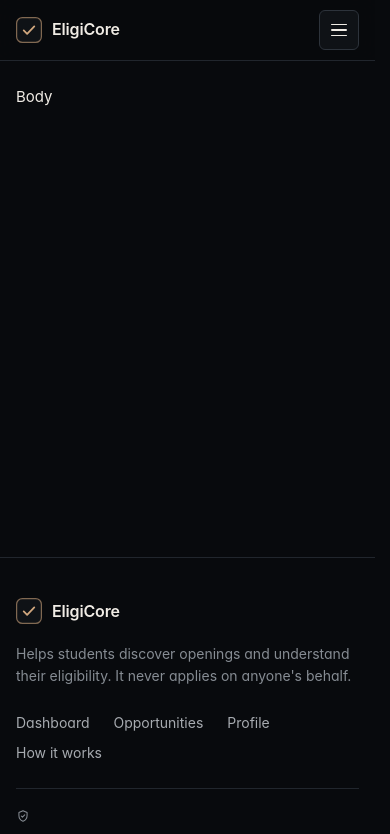
Test: mobile navigation › opens and closes the menu, reporting its state
What coordinates should you click on to do the following:
click the button named "Menu"
I would click on:
 (339, 30)
Its box is [319,10,359,50].
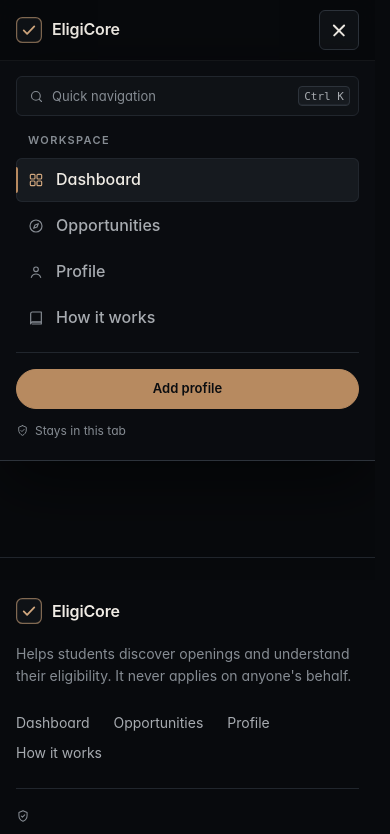
Expected: the button named "Menu" is expanded, [319,10,359,50]
What coordinates should you click on to do the following:
click the link "Opportunities" below "Workspace"
I would click on:
 (94, 225)
Its box is [28,215,160,235].
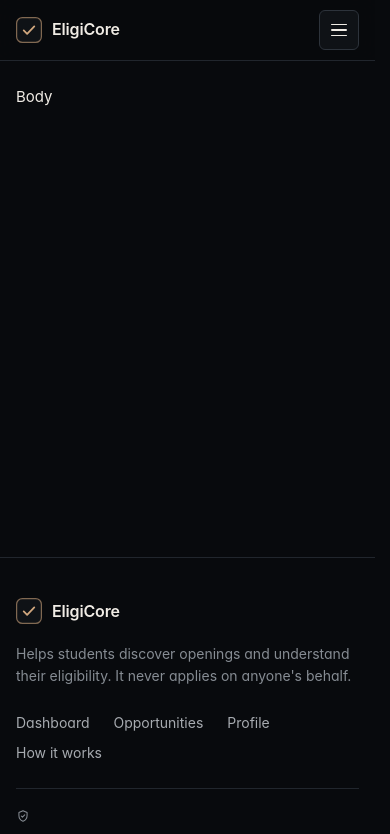
Expected: the navigation bar "Primary" does not have class "nav--open"
